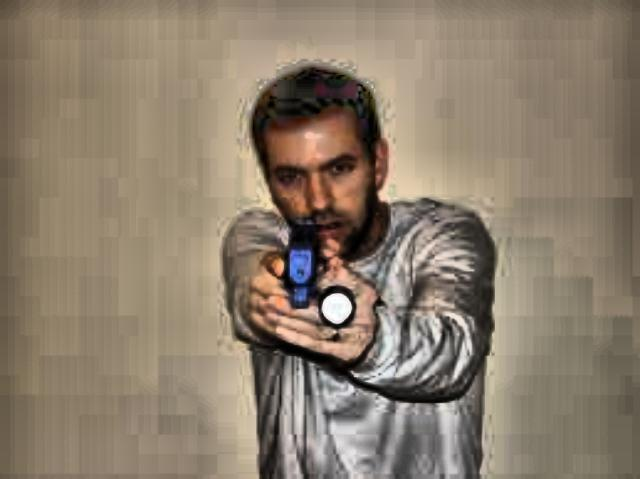pistol: (277, 212, 323, 306)
